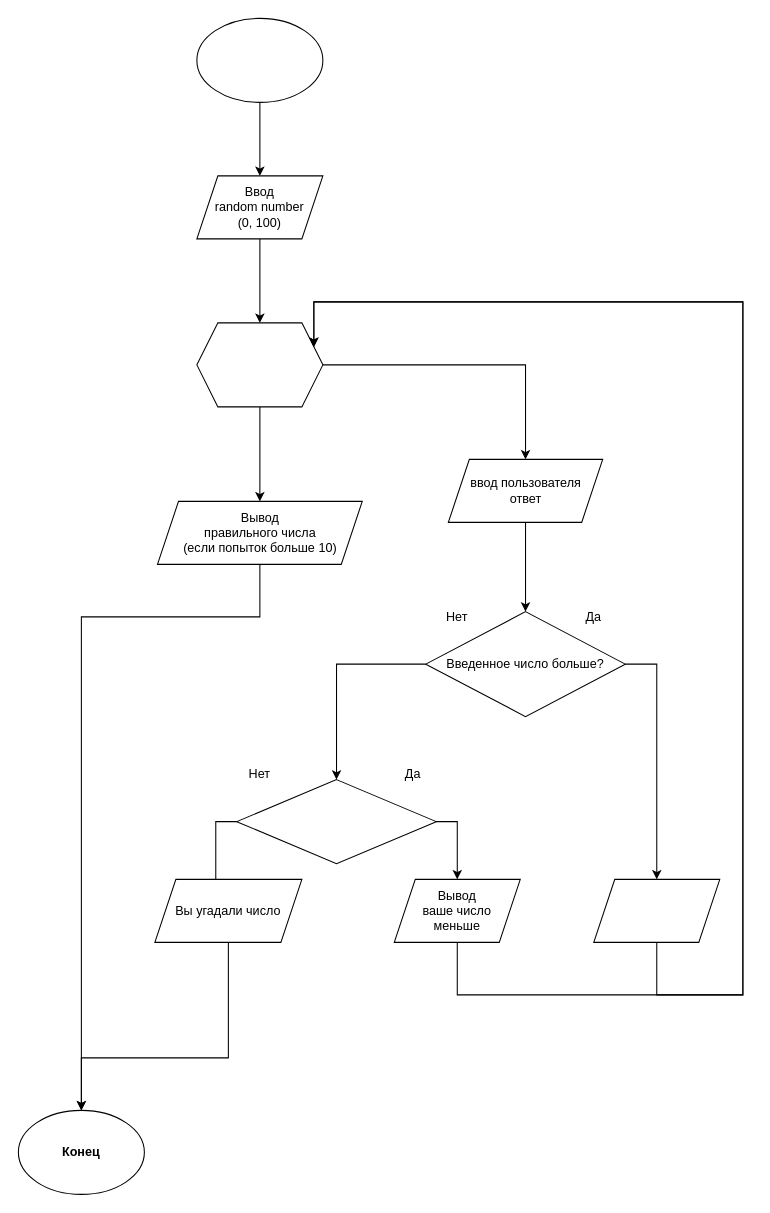
Image size: 770x1213. Some labels were removed from this diagram. Each missing label, with the centre of its shape:
"Введенное число меньше?" goes at (x=336, y=821).
"Вывод ваше число больше" goes at (x=656, y=910).
"Начало" goes at (x=259, y=59).
"Основной цикл" goes at (x=259, y=364).
